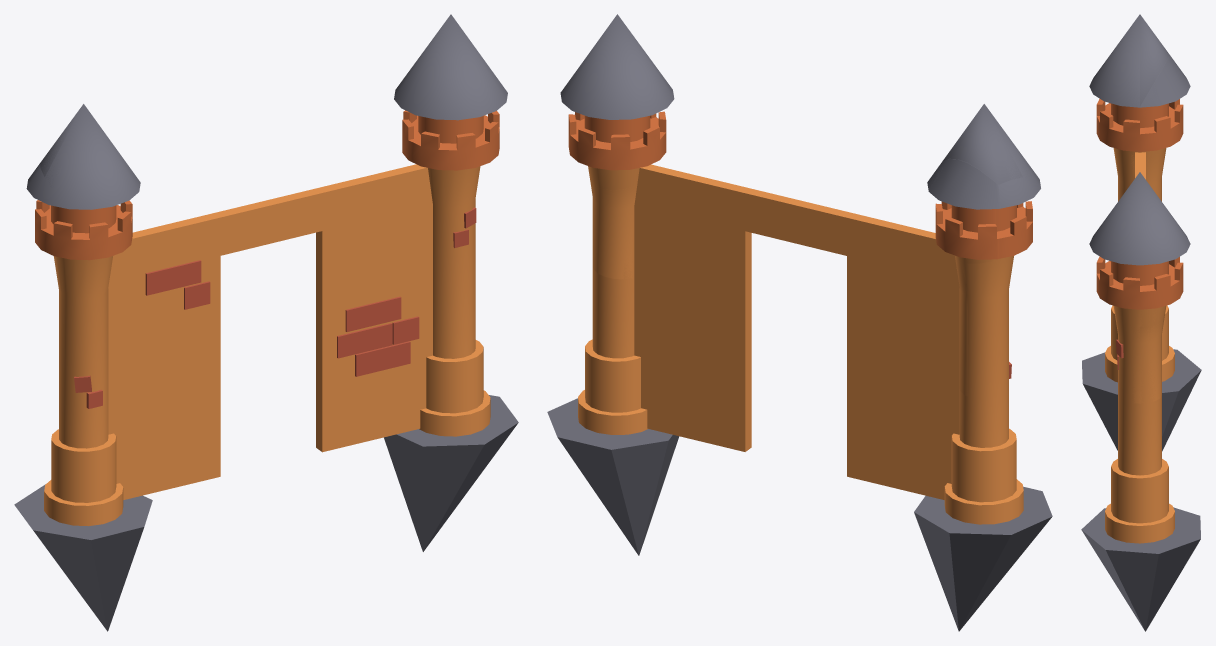
File: UpCastleFractured.fbx
3 renders of one model, left to right at view 1: azimuth 30°, elevation 25°; view 2: azimuth 150°, elevation 25°; view 3: azimuth 270°, elevation 25°, orthographic. The views are drawn at different scales.
Visible parts, largest first — view 1: Башни_Circle.001, Cube.001, Cube.001_cell.001, Кубы.001, Cube.001_cell.007, Кубы; view 2: Башни_Circle.001, Cube.001, Cube.001_cell.002, Cube.001_cell, Башни_Circle.001_cell.002, Cube.001_cell.004, Башни_Circle.001_cell.005, Cube.001_cell.006, Cube.001_cell.001, Башни_Circle.001_cell.007, Башни_Circle.001_cell, Башни_Circle.001_cell.008; view 3: Башни_Circle.001, Башни_Circle.001_cell.002, Башни_Circle.001_cell.005, Башни_Circle.001_cell.007, Башни_Circle.001_cell, Башни_Circle.001_cell.008, Cube.001.
Part boxes in pixels (<box>): Башни_Circle.001: <box>14,14,518,631</box>; Cube.001: <box>108,164,432,451</box>; Cube.001_cell.001: <box>109,419,220,499</box>; Кубы.001: <box>337,207,476,376</box>; Cube.001_cell.007: <box>319,368,426,452</box>; Кубы: <box>74,260,210,408</box>; Башни_Circle.001: <box>547,15,1052,631</box>; Cube.001: <box>634,166,959,499</box>; Cube.001_cell.002: <box>796,203,959,383</box>; Cube.001_cell: <box>649,180,797,341</box>; Башни_Circle.001_cell.002: <box>560,14,666,190</box>; Cube.001_cell.004: <box>634,318,748,451</box>; Башни_Circle.001_cell.005: <box>927,159,1000,263</box>; Cube.001_cell.006: <box>634,164,697,321</box>; Cube.001_cell.001: <box>847,366,959,442</box>; Башни_Circle.001_cell.007: <box>590,183,637,279</box>; Башни_Circle.001_cell: <box>942,104,1031,184</box>; Башни_Circle.001_cell.008: <box>955,257,967,396</box>; Башни_Circle.001: <box>1081,14,1201,631</box>; Башни_Circle.001_cell.002: <box>1097,172,1190,326</box>; Башни_Circle.001_cell.005: <box>1130,54,1190,155</box>; Башни_Circle.001_cell.007: <box>1131,319,1164,403</box>; Башни_Circle.001_cell: <box>1121,14,1169,106</box>; Башни_Circle.001_cell.008: <box>1131,149,1165,199</box>; Cube.001: <box>1135,152,1145,177</box>.
Size of the model in its own units: 447 by 470 by 109.
